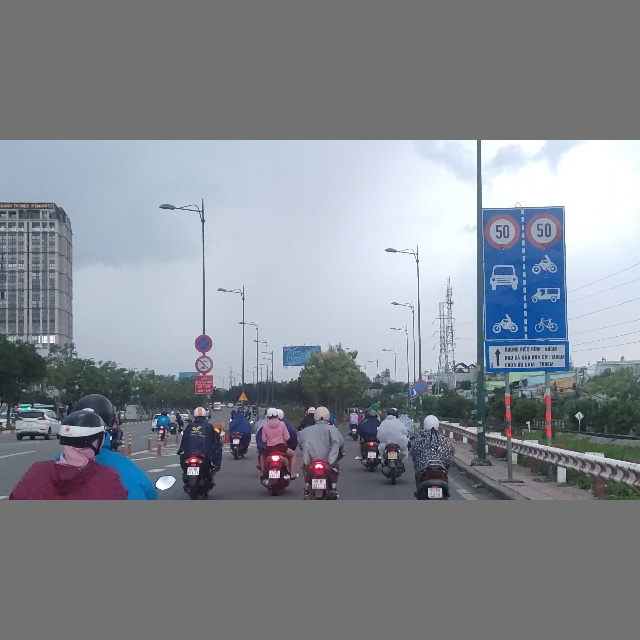P.111: (195, 355, 213, 373)
P.127*50: (524, 207, 565, 249), (483, 210, 521, 249)
P.130: (195, 334, 213, 353)
P.131a: (414, 381, 427, 393)
W.201a: (238, 392, 248, 401)
